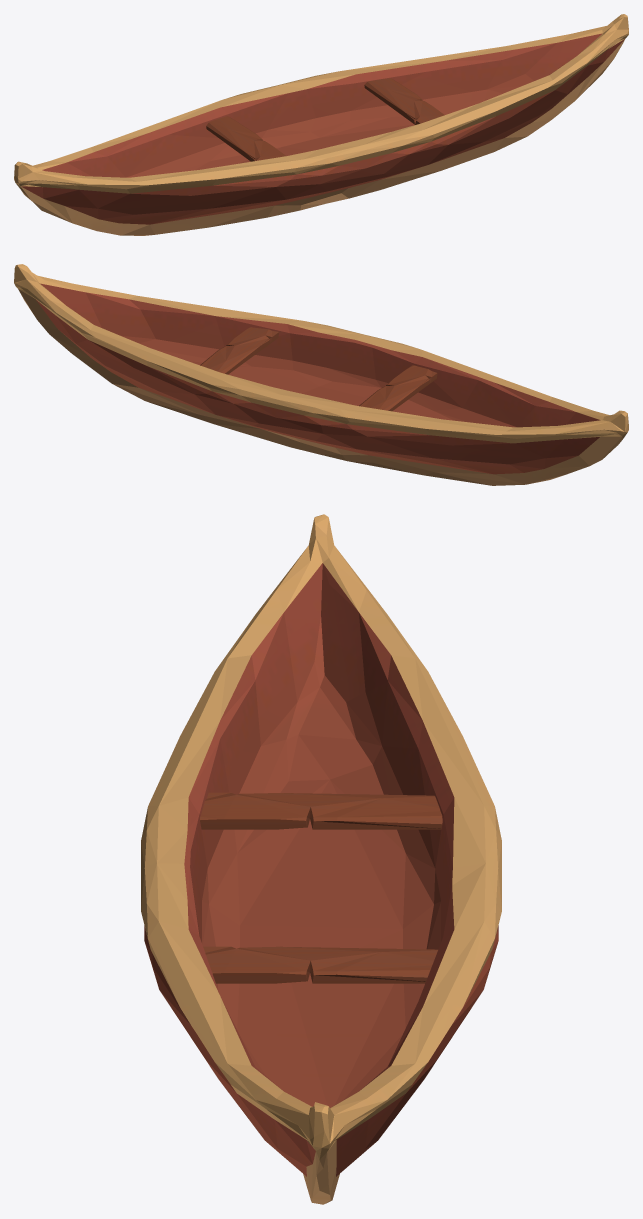
The picture shows the model from 3 angles, top to bottom: view 1: azimuth 30°, elevation 25°; view 2: azimuth 150°, elevation 25°; view 3: azimuth 270°, elevation 25°; orthographic projection. The views are drawn at different scales.
Visible parts, largest first — view 1: Boat1; view 2: Boat1; view 3: Boat1.
Part boxes in pixels (x1,y1,x2,y2): Boat1: (14,14,628,235); Boat1: (14,264,628,485); Boat1: (141,514,501,1204).
Bounding box in the file's own units: 9.2 × 1.64 × 2.34.
1 material, 1 textured.
